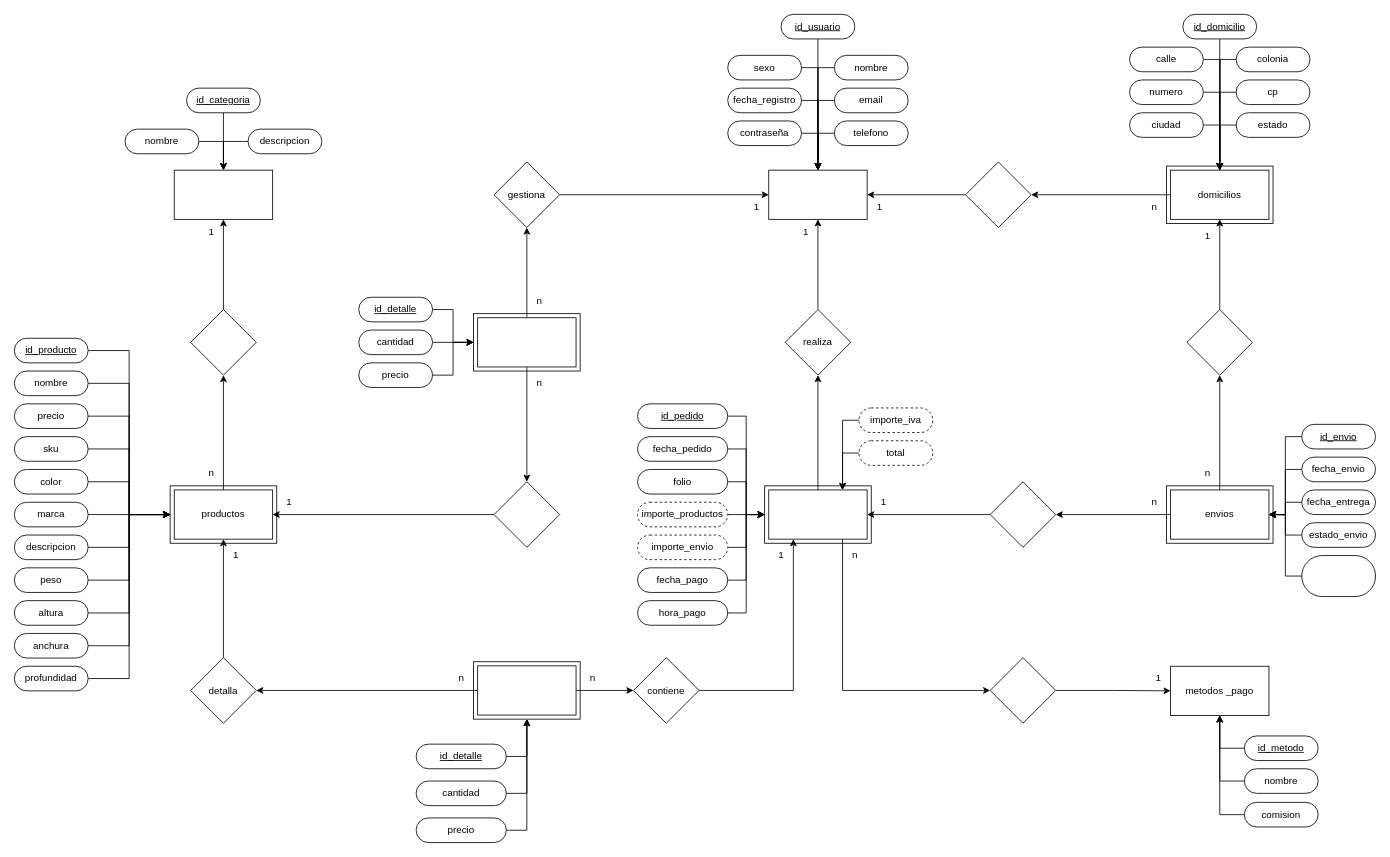
Image size: 1390x857. Some labels were removed from this diagram. Each missing label, with the centre of its shape:
"categorias" goes at point 223,194.
"clasifica" goes at point 223,342.
"detalles_carrito" goes at point 526,342.
"detalles_pedidos" goes at point 526,690.
"esta" goes at point 526,514.
"numero_ seguimiento" goes at point 1338,576.
"paga" goes at point 1022,690.
"pedidos" goes at point 817,514.
"recive" goes at point 1219,342.
"sale" goes at point 1022,514.
"tiene" goes at point 998,194.
"usuarios" goes at point 817,194.
